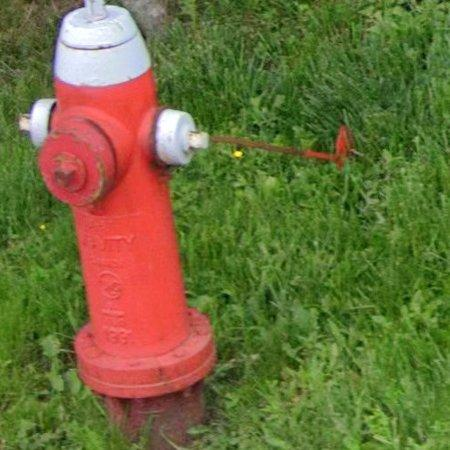a fire hydrant: (20, 0, 216, 441)
